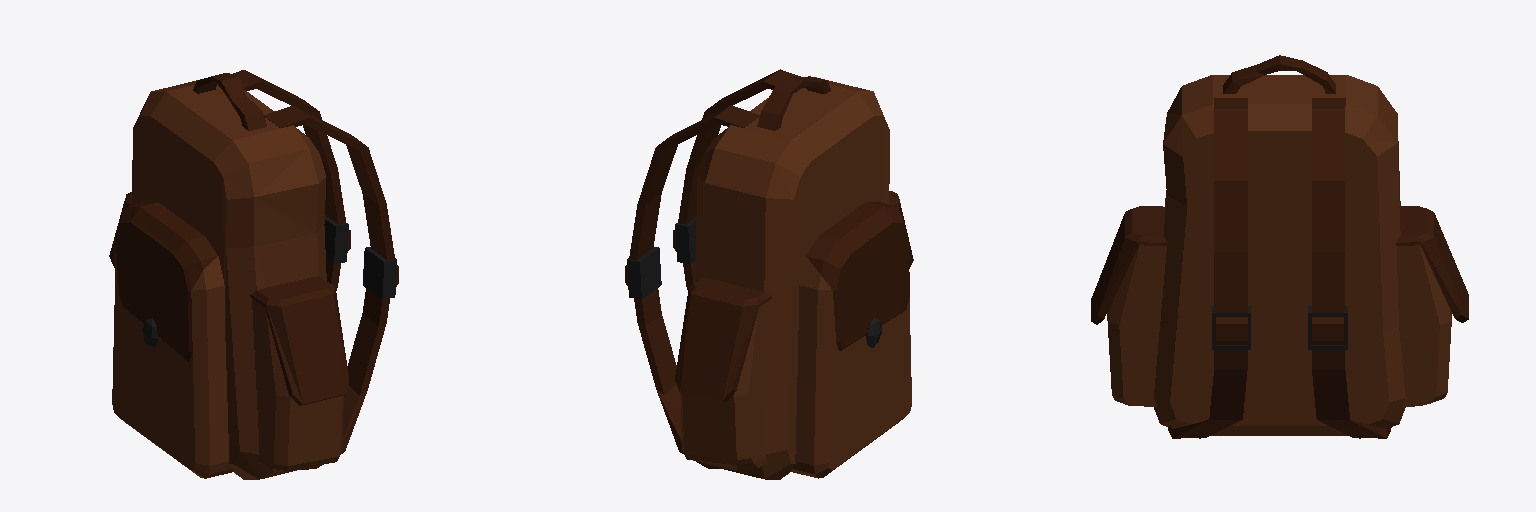
File: Backpack.obj
The picture shows the model from 3 angles: view 1: azimuth 30°, elevation 25°; view 2: azimuth 150°, elevation 25°; view 3: azimuth 270°, elevation 25°; orthographic projection.
Visible parts, largest first — view 1: Backpack_Cube.006; view 2: Backpack_Cube.006; view 3: Backpack_Cube.006.
Boxes of the visible parts, x1=… form: Backpack_Cube.006: x1=109, y1=70, x2=398, y2=479; Backpack_Cube.006: x1=625, y1=69, x2=913, y2=479; Backpack_Cube.006: x1=1091, y1=55, x2=1468, y2=438.
Bounding box in the file's own units: 0.9259 × 1.46 × 1.36.